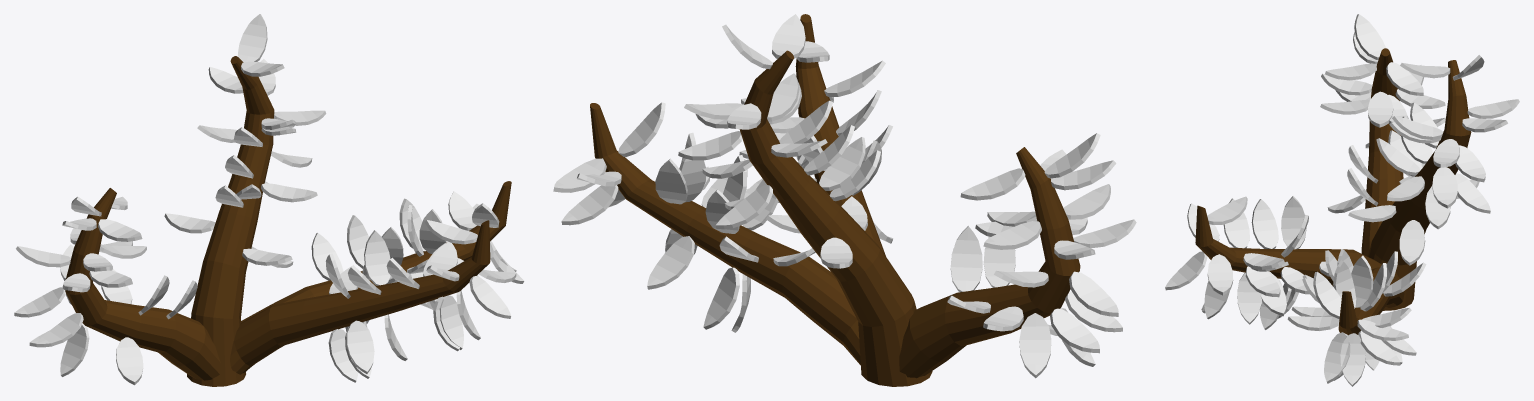
The model's file is Arbusto3Hoja1Otoño.fbx.
3 renders of one model, left to right at view 1: azimuth 30°, elevation 25°; view 2: azimuth 150°, elevation 25°; view 3: azimuth 270°, elevation 25°, orthographic. The views are drawn at different scales.
Parts seen in each view (by area): view 1: RamaArbusto3Hoja1Otoño; view 2: RamaArbusto3Hoja1Otoño; view 3: RamaArbusto3Hoja1Otoño.
Part boxes in pixels (x1,y1,x2,y2): RamaArbusto3Hoja1Otoño: [14, 14, 524, 386]; RamaArbusto3Hoja1Otoño: [553, 14, 1136, 386]; RamaArbusto3Hoja1Otoño: [1165, 14, 1519, 386].
Size of the model in its own units: 184 by 114 by 125.
